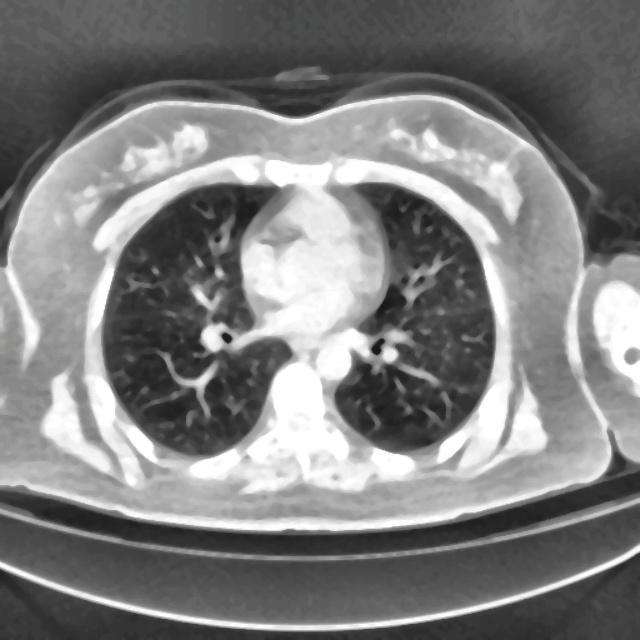covid: (0, 74, 638, 533)
